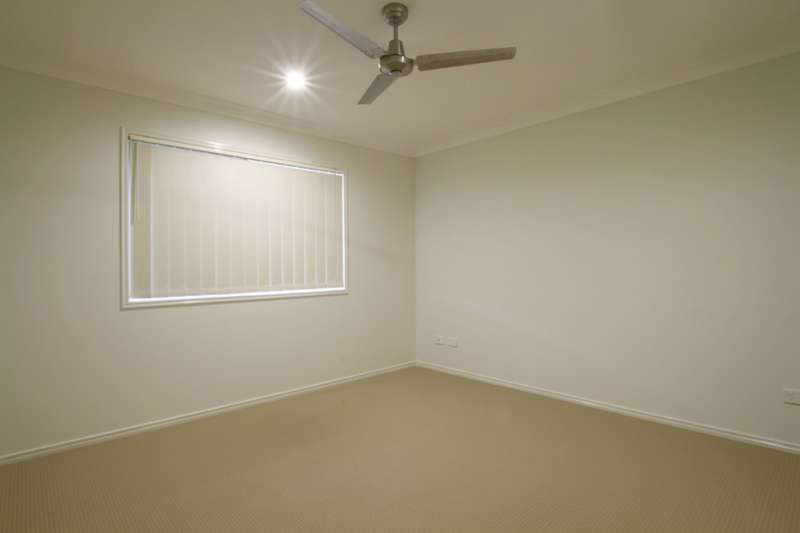ceiling fan: (296, 1, 523, 109)
